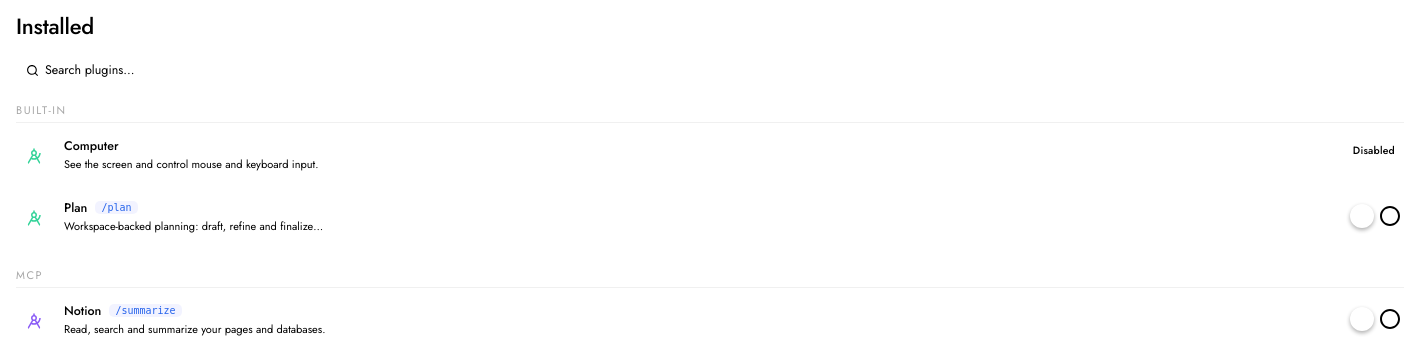
PluginsInstalledPage › PluginsInstalledPage — search › a query with no matches shows no rows
The width and height of the screenshot is (1421, 353).
Type "zzz-no-match" into the field with placeholder "Search plugins..." at (720,70), box [45, 61, 1394, 79]
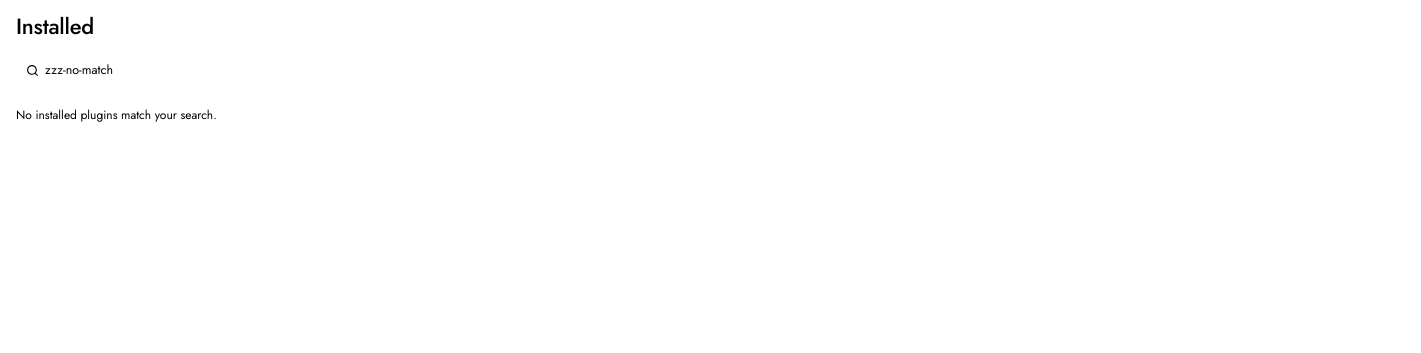
Result: the text "Plan" is gone
Result: the text "Notion" is gone
